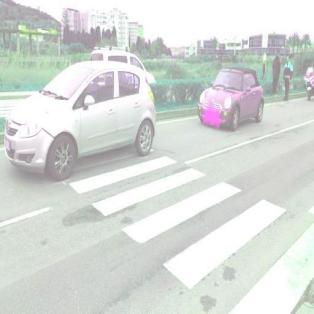Paso de Cebra: (115, 180, 301, 304)
